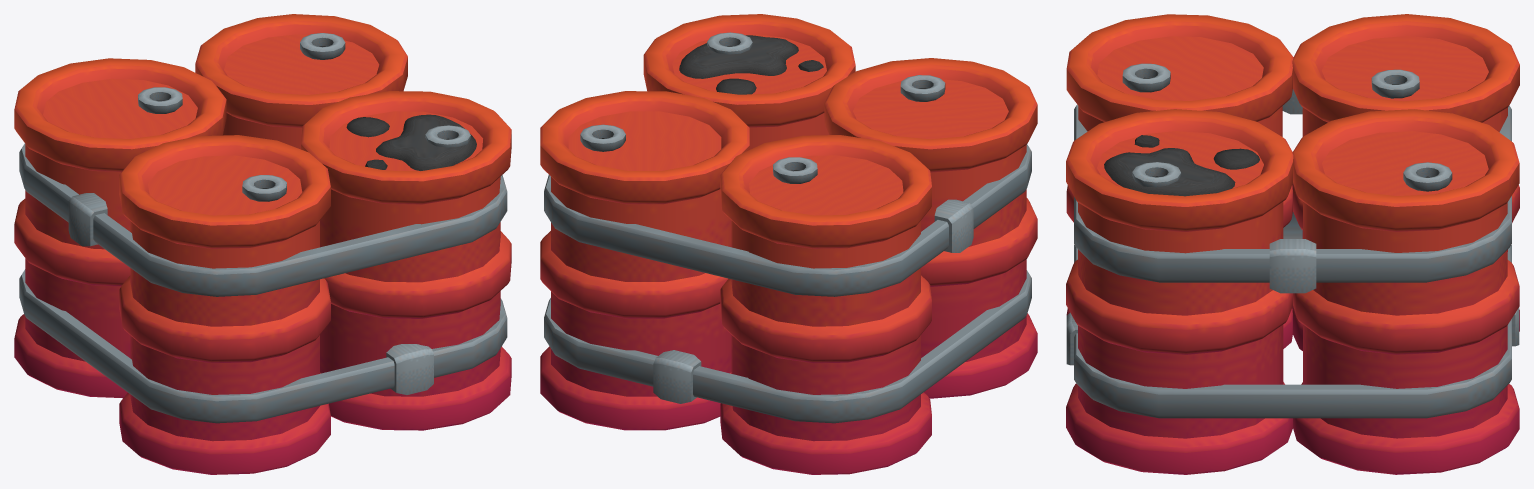
The model's file is fuel-a-barrels.glb.
3 renders of one model, left to right at view 1: azimuth 30°, elevation 25°; view 2: azimuth 150°, elevation 25°; view 3: azimuth 270°, elevation 25°, orthographic. The views are drawn at different scales.
Parts seen in each view (by area): view 1: Fuel_A_Barrels; view 2: Fuel_A_Barrels; view 3: Fuel_A_Barrels.
Boxes of the visible parts, x1=… form: Fuel_A_Barrels: x1=14, y1=14, x2=511, y2=474; Fuel_A_Barrels: x1=540, y1=14, x2=1037, y2=474; Fuel_A_Barrels: x1=1066, y1=14, x2=1519, y2=474.
Size of the model in its own units: 1.51 by 1.01 by 1.51.
Materials: 1 (1 with a texture image).
